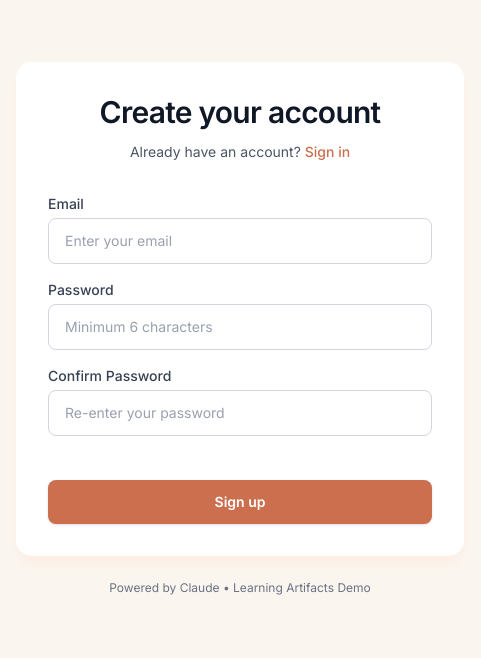
Test case: SignupPage › shows success message when email confirmation required
In the field with placeholder "Enter your email": (240, 241) [48,218,432,264], type "newuser@example.com"
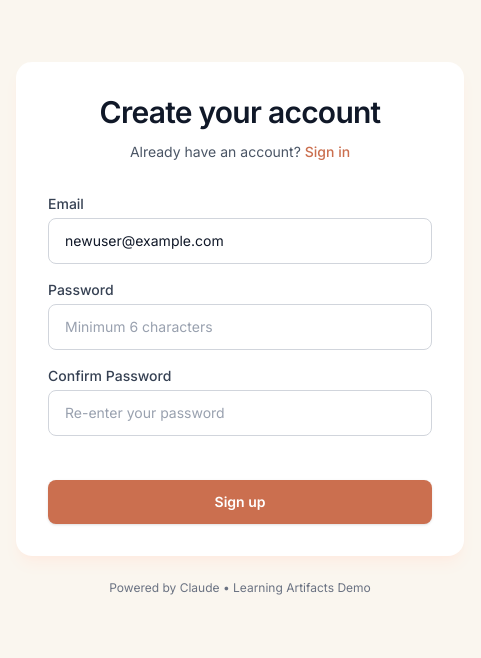
In the password field with placeholder "Minimum 6 characters": (240, 327) [48,304,432,350], type "password123"
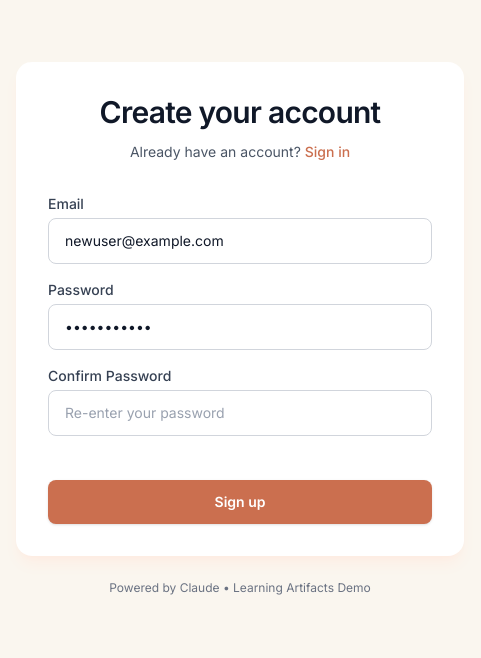
In the password field with placeholder "Re-enter your password": (240, 413) [48,390,432,436], type "password123"
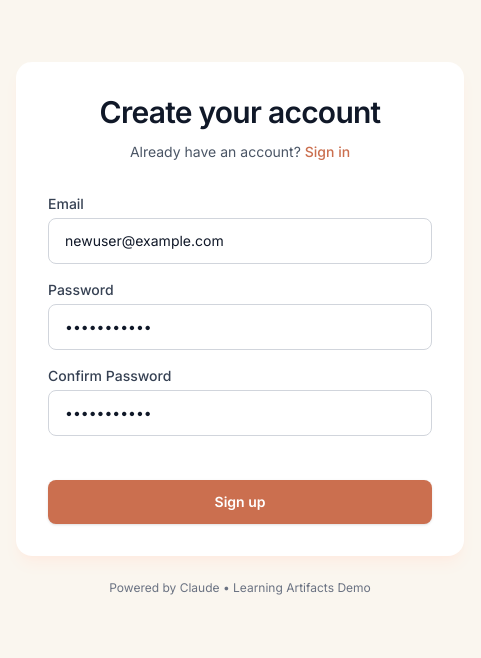
Click the button "Sign up": (240, 502) [48,480,432,524]
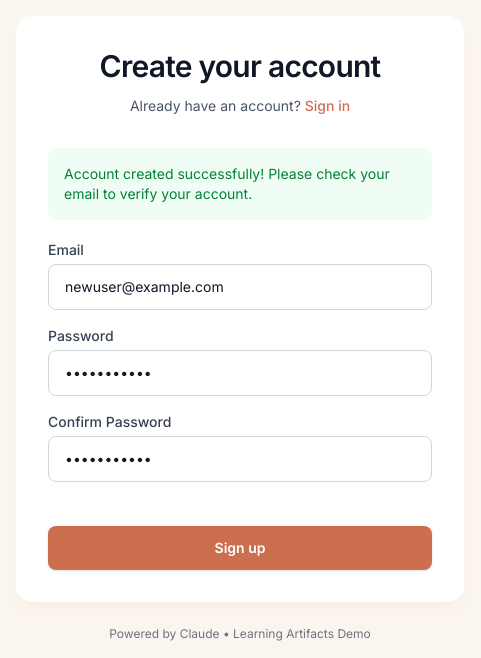
Expected: the text "Please check your email" is shown, [64,165,390,202]
